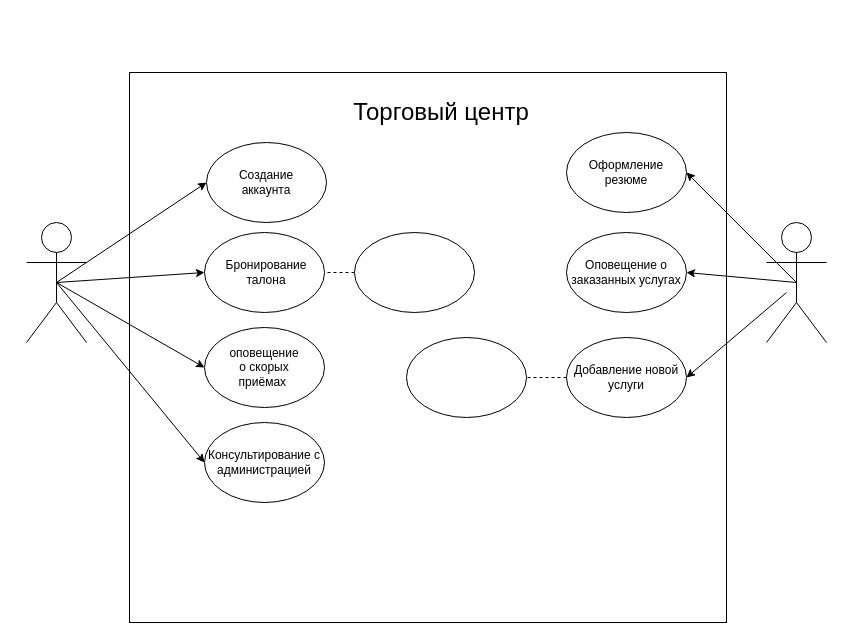
Image size: 853x640. Some labels were removed from this diagram. Here are the shapes that lost their labels. From the top down, the centre of each, then its label:
At (56,282): "Пользователь".
At (414,272): "Управление талонами".
At (796,282): "Лучащий врач".
At (466,377): "Управление услугами".
